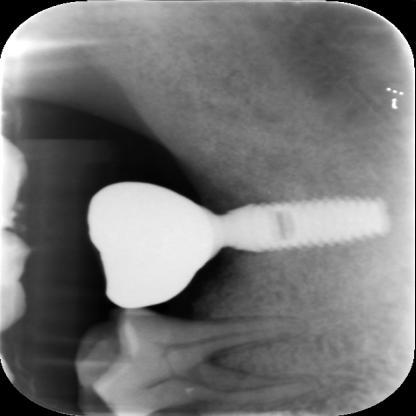Bicon: (226, 189, 391, 262)
